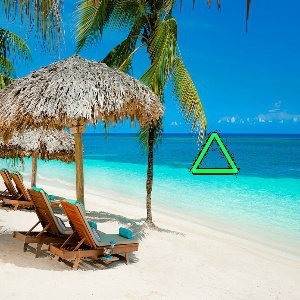triangle: (184, 127, 245, 179)
